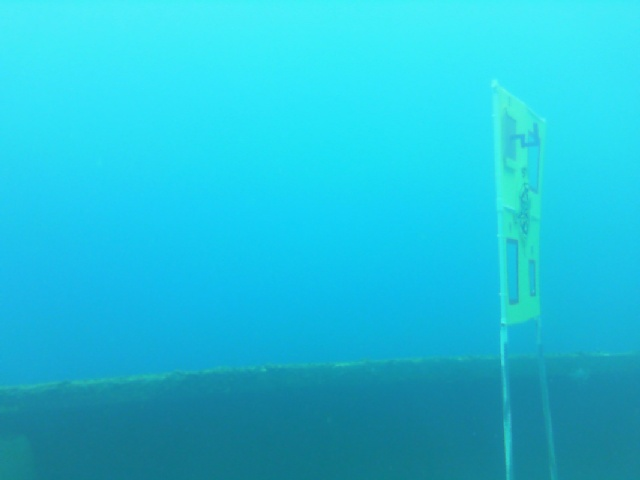torpedo_target: (486, 77, 551, 331)
